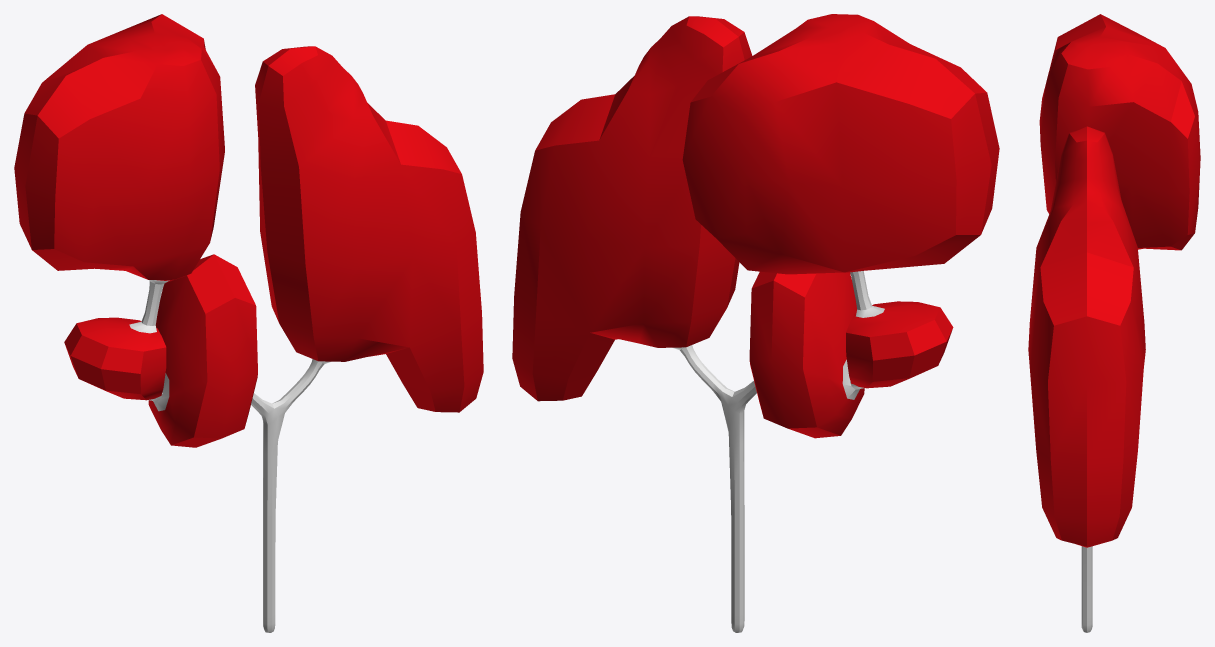
The model's file is tree.fbx.
The picture shows the model from 3 angles, left to right: view 1: azimuth 30°, elevation 25°; view 2: azimuth 150°, elevation 25°; view 3: azimuth 270°, elevation 25°; orthographic projection. The views are drawn at different scales.
Parts seen in each view (by area): view 1: Cube; view 2: Cube; view 3: Cube.
Part boxes in pixels (bbox=[...]): Cube: bbox=[14, 14, 483, 632]; Cube: bbox=[512, 14, 999, 632]; Cube: bbox=[1028, 14, 1200, 632].
Size of the model in its own units: 1788 by 2312 by 668.
